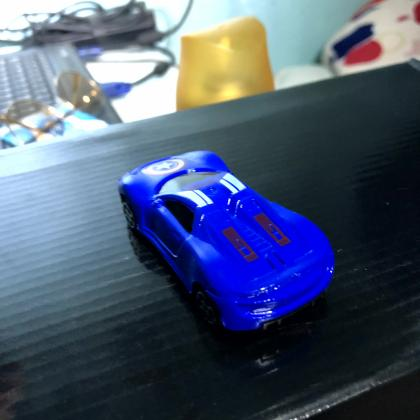Car: (118, 151, 335, 335)
